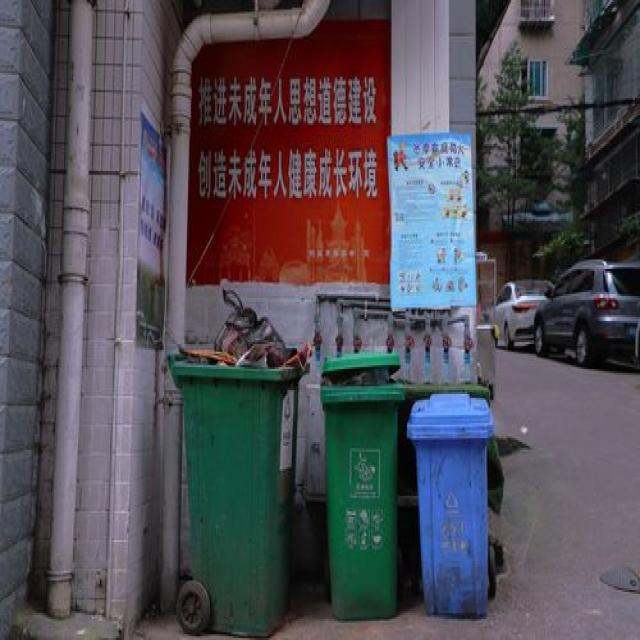garbage_bin: (406, 390, 490, 617)
overflow: (165, 288, 307, 638), (318, 350, 406, 617)
